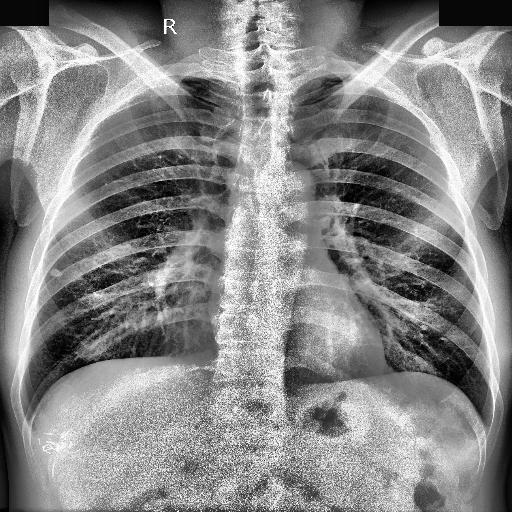0- Aortic enlargement: (259, 157, 316, 207)
11- Pleural thickening: (312, 72, 378, 83), (168, 74, 218, 84)
2- Calcification: (50, 268, 62, 278)
8- Nodule-Mass: (50, 267, 62, 278), (49, 268, 63, 276)
